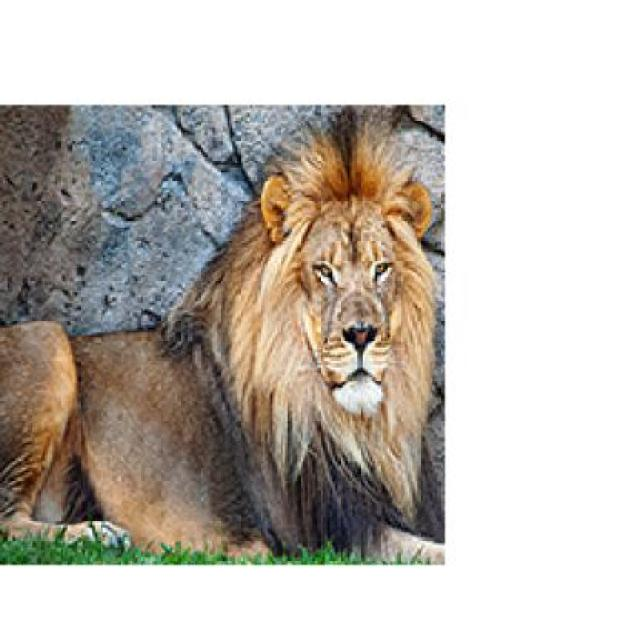Lion: (3, 99, 455, 623)
